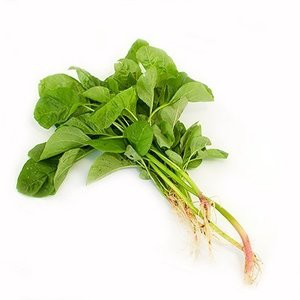Bayam: (16, 24, 277, 289)
